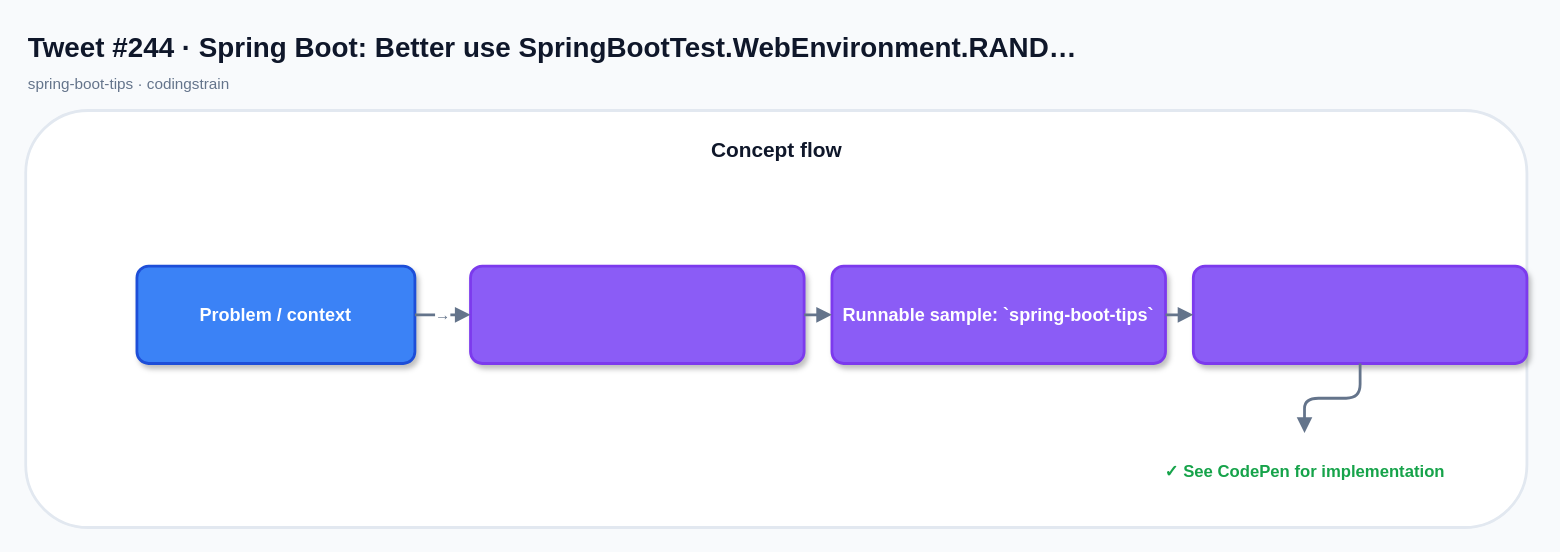
Image size: 1560x552. Some labels were removed from this diagram. Here are the shapes that lost their labels. From the top down, the centre of each, then its label:
At [638,316]: "#SpringBoot #JavaDev".
At [1361,316]: "Architecture diagram + Carbon CodePen below".
